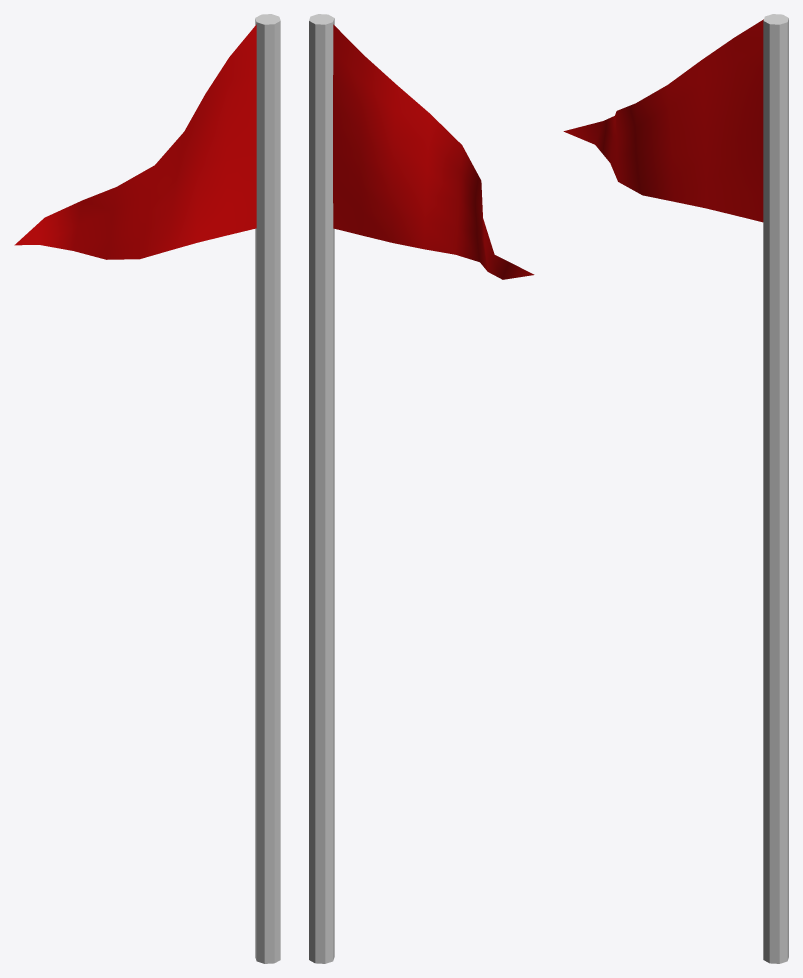
The model's file is Flag.fbx.
3 views of the same model, side by side, from view 1: azimuth 30°, elevation 25°; view 2: azimuth 150°, elevation 25°; view 3: azimuth 330°, elevation 25° (orthographic).
Visible parts, largest first — view 1: pole, Flag; view 2: pole, Flag; view 3: pole, Flag.
Part boxes in pixels (x1=…): pole: x1=255, y1=14, x2=280, y2=963; Flag: x1=14, y1=24, x2=256, y2=259; pole: x1=309, y1=14, x2=334, y2=963; Flag: x1=333, y1=24, x2=534, y2=279; pole: x1=763, y1=14, x2=788, y2=963; Flag: x1=563, y1=19, x2=763, y2=222.
Size of the model in its own units: 209 by 765 by 57.45.
